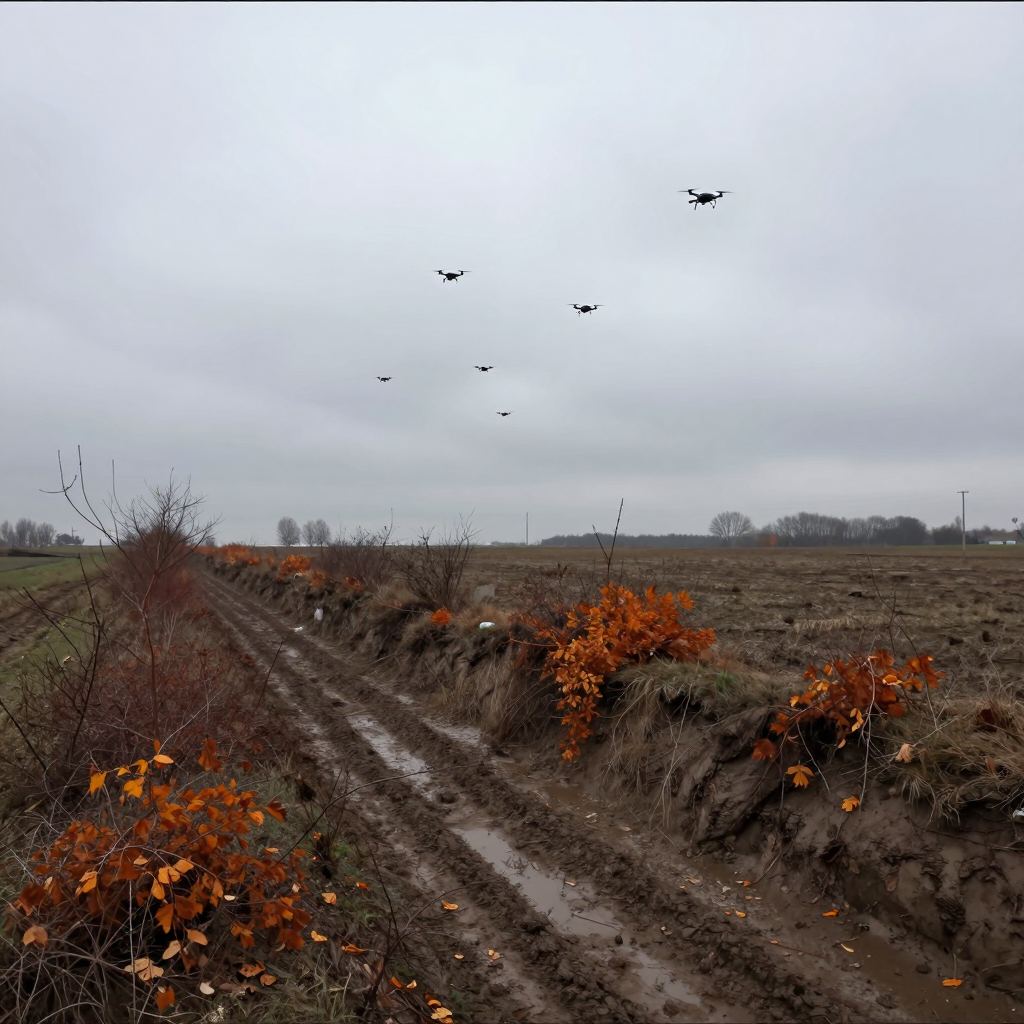drone: (677, 188, 734, 210), (432, 269, 472, 283), (567, 303, 605, 316), (474, 365, 494, 372), (376, 377, 393, 383), (496, 412, 513, 417)
